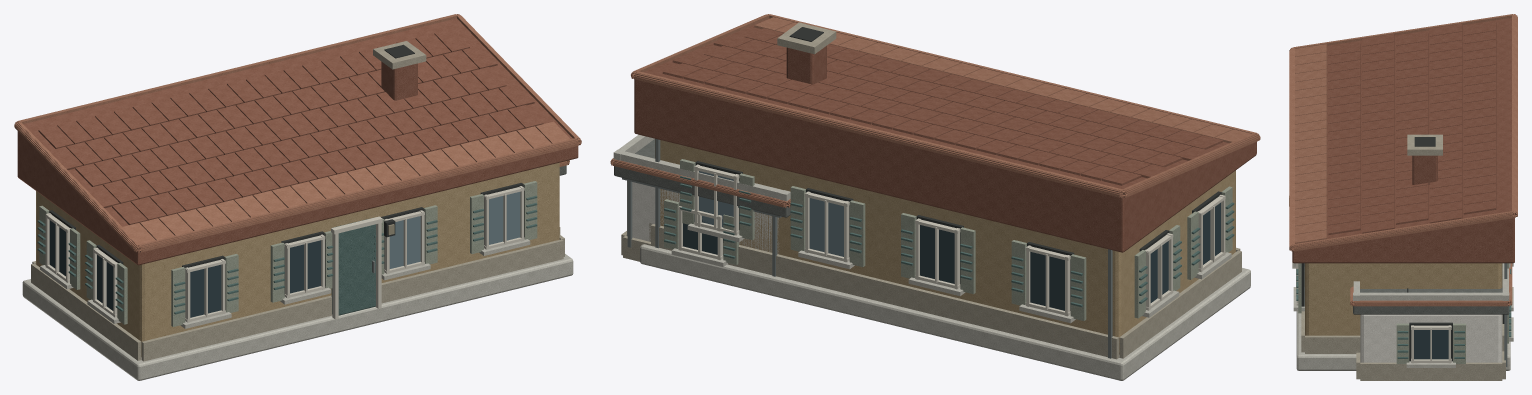
Rendered from RES_LOW_2x1_010.glb.
The picture shows the model from 3 angles, left to right: view 1: azimuth 30°, elevation 25°; view 2: azimuth 150°, elevation 25°; view 3: azimuth 270°, elevation 25°; orthographic projection. The views are drawn at different scales.
Parts seen in each view (by area): view 1: RES_LOW_2x1_010_Visual; view 2: RES_LOW_2x1_010_Visual; view 3: RES_LOW_2x1_010_Visual.
Part boxes in pixels (<box>): RES_LOW_2x1_010_Visual: <box>14,14,581,380</box>; RES_LOW_2x1_010_Visual: <box>610,14,1260,380</box>; RES_LOW_2x1_010_Visual: <box>1289,14,1517,380</box>.
Size of what is drawn, in the model's own units: 3.49 by 1.41 by 1.6.
15 materials, 9 textured.
